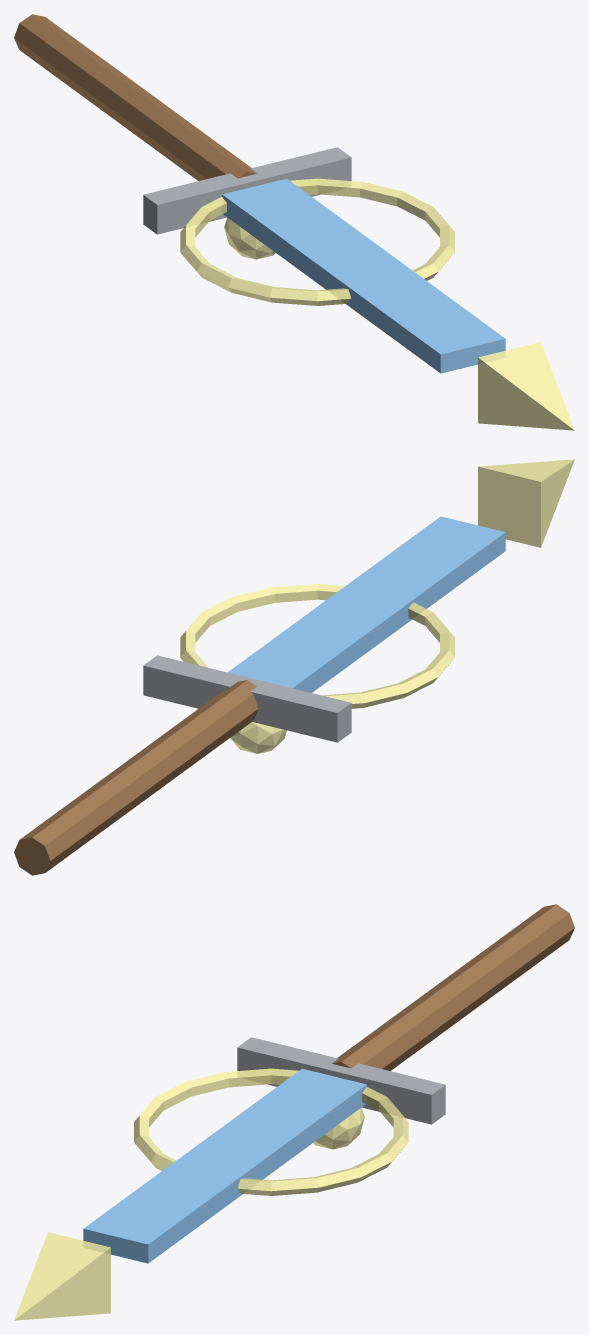
File: 03_magic_weapon_upgrade.glb
The picture shows the model from 3 angles, top to bottom: view 1: azimuth 30°, elevation 25°; view 2: azimuth 150°, elevation 25°; view 3: azimuth 330°, elevation 25°; orthographic projection.
Visible parts, largest first — view 1: enchanted_blade_or_focus, weapon_handle, rune_orbit, weapon_guard, weapon_tip, gem_socket; view 2: enchanted_blade_or_focus, weapon_handle, weapon_guard, weapon_tip, rune_orbit, gem_socket; view 3: enchanted_blade_or_focus, weapon_handle, rune_orbit, weapon_guard, weapon_tip, gem_socket.
Boxes of the visible parts, x1,y1,x2,y2 form: enchanted_blade_or_focus: (222, 178, 505, 373); weapon_handle: (14, 14, 256, 180); rune_orbit: (180, 178, 454, 305); weapon_guard: (143, 147, 351, 234); weapon_tip: (478, 342, 574, 430); gem_socket: (224, 217, 275, 259); enchanted_blade_or_focus: (228, 516, 505, 692); weapon_handle: (14, 680, 258, 875); weapon_guard: (143, 655, 351, 742); weapon_tip: (478, 459, 574, 547); rune_orbit: (180, 584, 454, 708); gem_socket: (230, 722, 286, 753); enchanted_blade_or_focus: (83, 1068, 366, 1263); weapon_handle: (332, 904, 574, 1070); rune_orbit: (134, 1068, 408, 1195); weapon_guard: (237, 1037, 445, 1124); weapon_tip: (14, 1232, 110, 1320); gem_socket: (313, 1107, 364, 1149).
Bounding box in the file's own units: 0.596 × 0.2178 × 2.32.
